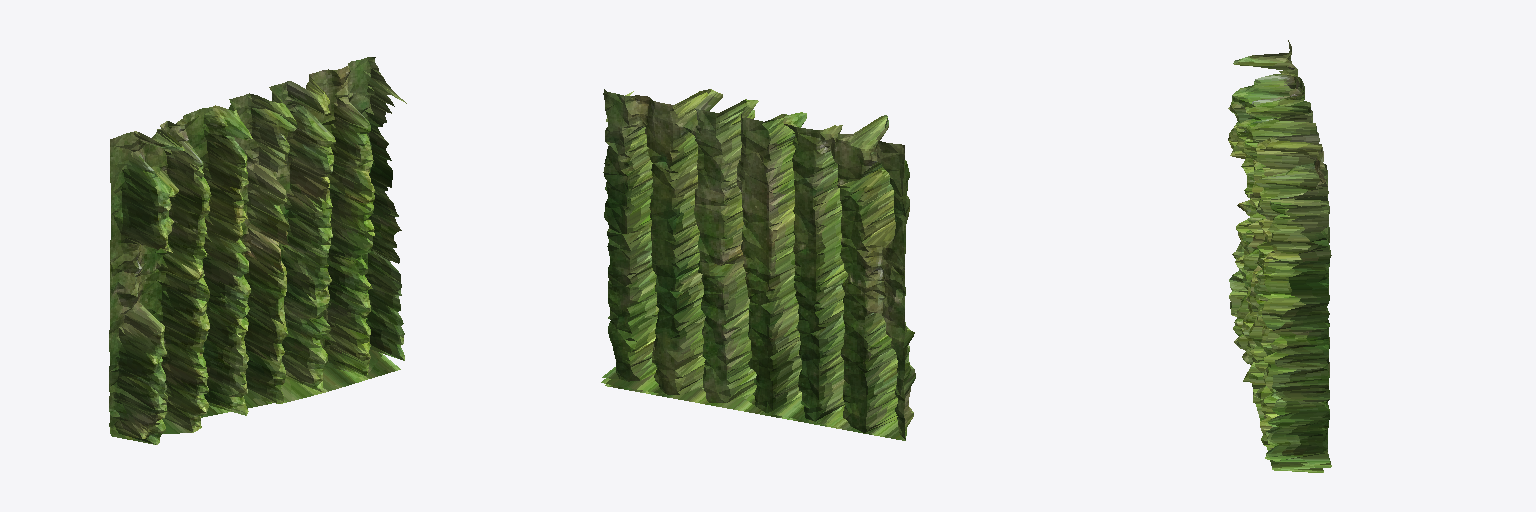
The picture shows the model from 3 angles: view 1: azimuth 30°, elevation 25°; view 2: azimuth 150°, elevation 25°; view 3: azimuth 270°, elevation 25°; orthographic projection.
Parts seen in each view (by area): view 1: grp1; view 2: grp1; view 3: grp1.
Part boxes in pixels (left/top/right/bottom): grp1: left=109, top=57, right=406, bottom=444; grp1: left=601, top=89, right=915, bottom=440; grp1: left=1228, top=40, right=1331, bottom=472.
Size of the model in its own units: 10 by 10 by 3.2.
1 materials, 1 textured.